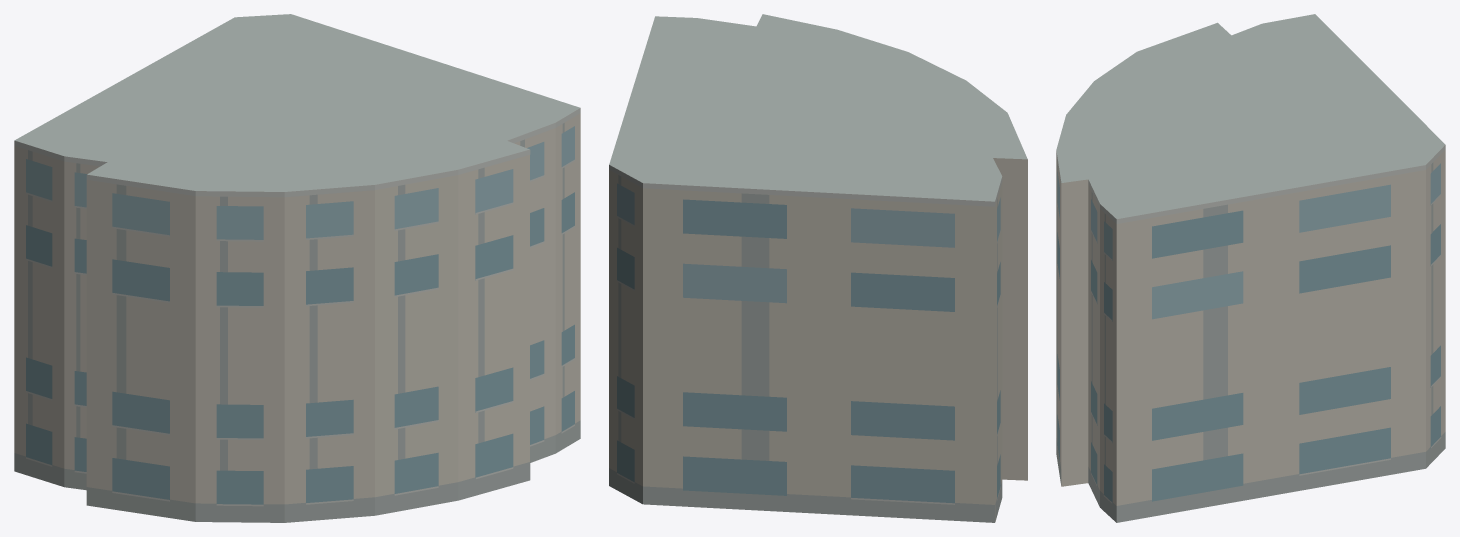
The model's file is survey-upis-32724348.glb.
3 renders of one model, left to right at view 1: azimuth 30°, elevation 25°; view 2: azimuth 150°, elevation 25°; view 3: azimuth 270°, elevation 25°, orthographic. The views are drawn at different scales.
Parts seen in each view (by area): view 1: survey-upis-32724348.tmp; view 2: survey-upis-32724348.tmp; view 3: survey-upis-32724348.tmp.
Part boxes in pixels (x1,y1,x2,y2): survey-upis-32724348.tmp: (14, 14, 580, 522); survey-upis-32724348.tmp: (609, 14, 1027, 522); survey-upis-32724348.tmp: (1056, 14, 1445, 522).
Size of the model in its own units: 22.11 by 15.25 by 17.73.
